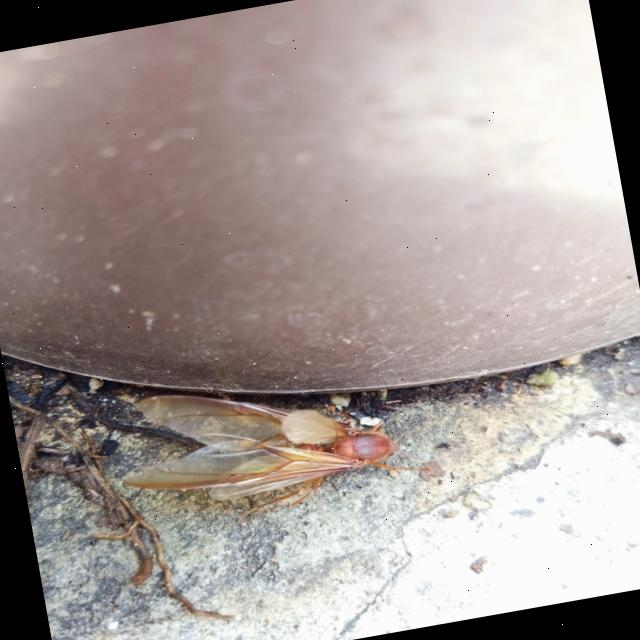Alive-Male-Alate: (109, 346, 434, 540)
